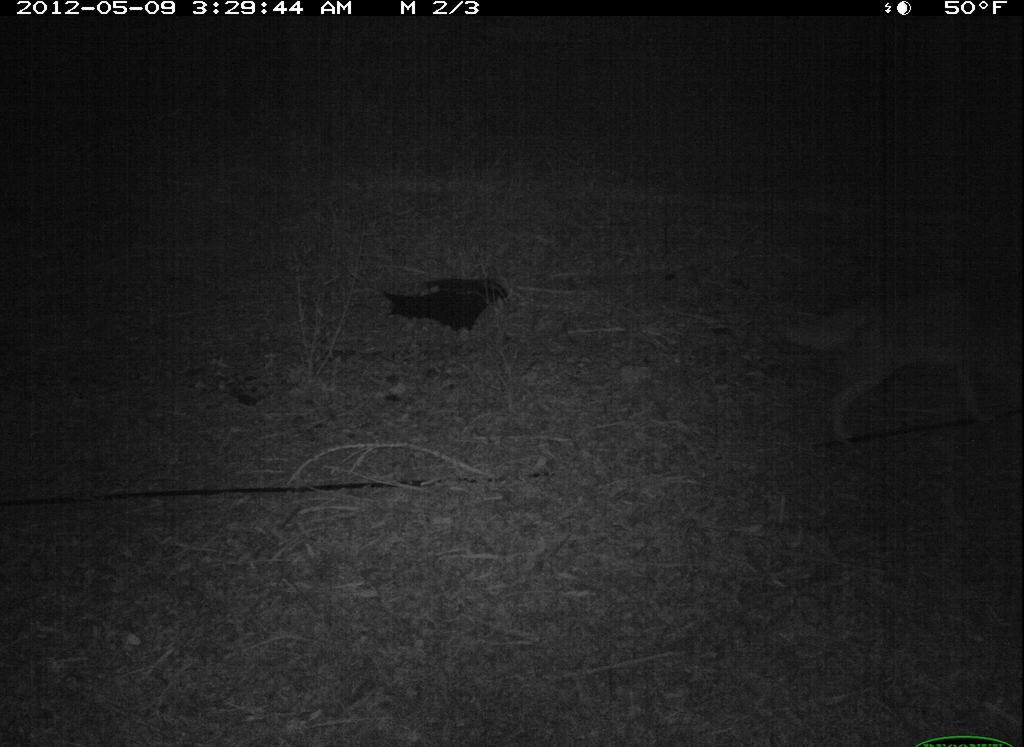coyote: (793, 276, 1024, 464)
